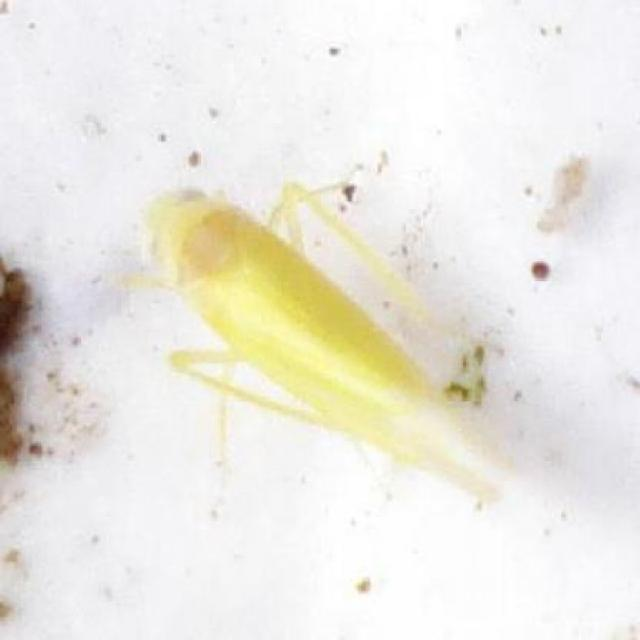green-leafhopper: (109, 179, 513, 504)
